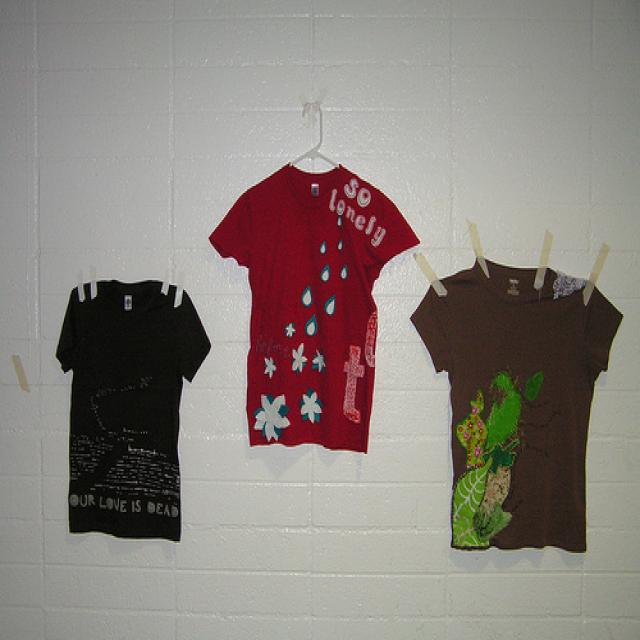T-shirt: (411, 237, 626, 558), (205, 157, 421, 466), (56, 275, 210, 553)
